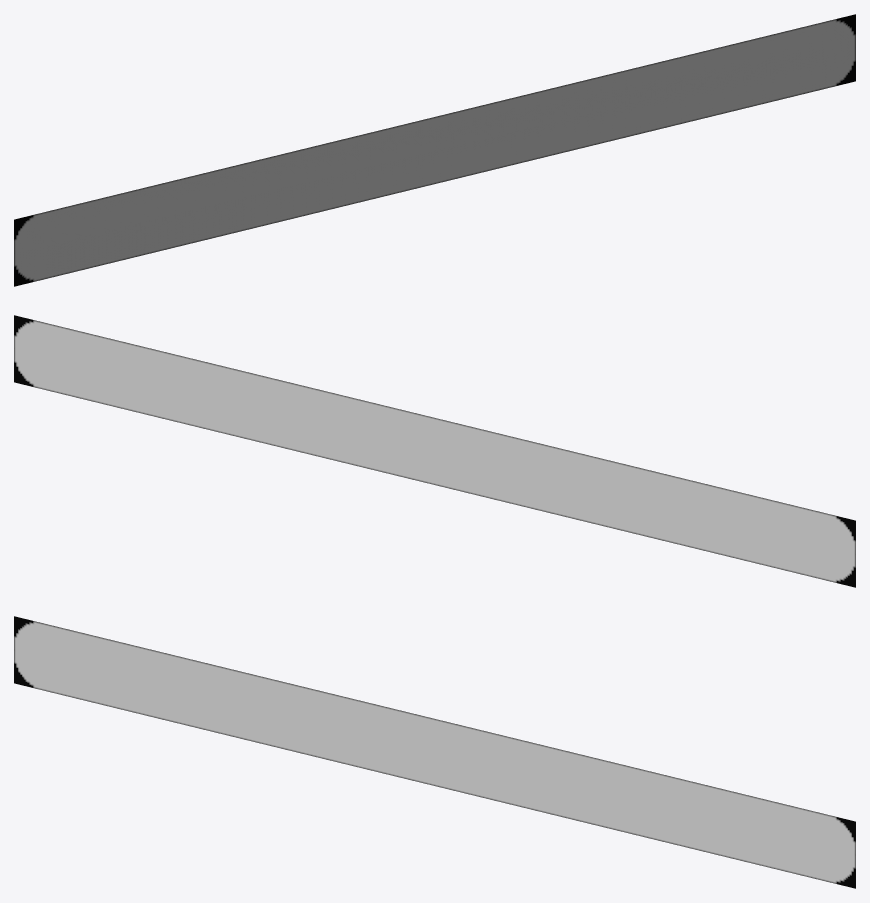
3 renders of one model, top to bottom at view 1: azimuth 30°, elevation 25°; view 2: azimuth 150°, elevation 25°; view 3: azimuth 330°, elevation 25°, orthographic.
Visible parts, largest first — view 1: Joint_0_Object_0; view 2: Joint_0_Object_0; view 3: Joint_0_Object_0.
Part boxes in pixels (bbox=[...]): Joint_0_Object_0: bbox=[14, 14, 855, 286]; Joint_0_Object_0: bbox=[14, 315, 855, 587]; Joint_0_Object_0: bbox=[14, 616, 855, 888].
Size of the model in its own units: 223 by 17 by 0.
Materials: 1 (1 with a texture image).
